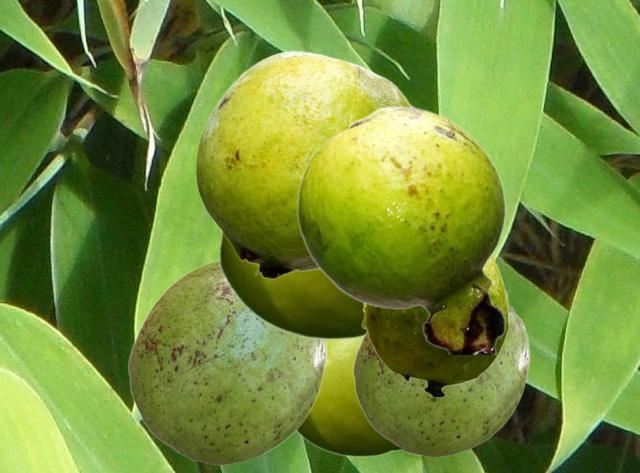guava: (296, 105, 506, 353), (195, 50, 412, 279), (217, 102, 418, 339), (127, 260, 326, 464), (352, 289, 529, 456), (361, 255, 508, 397), (297, 339, 420, 456)
